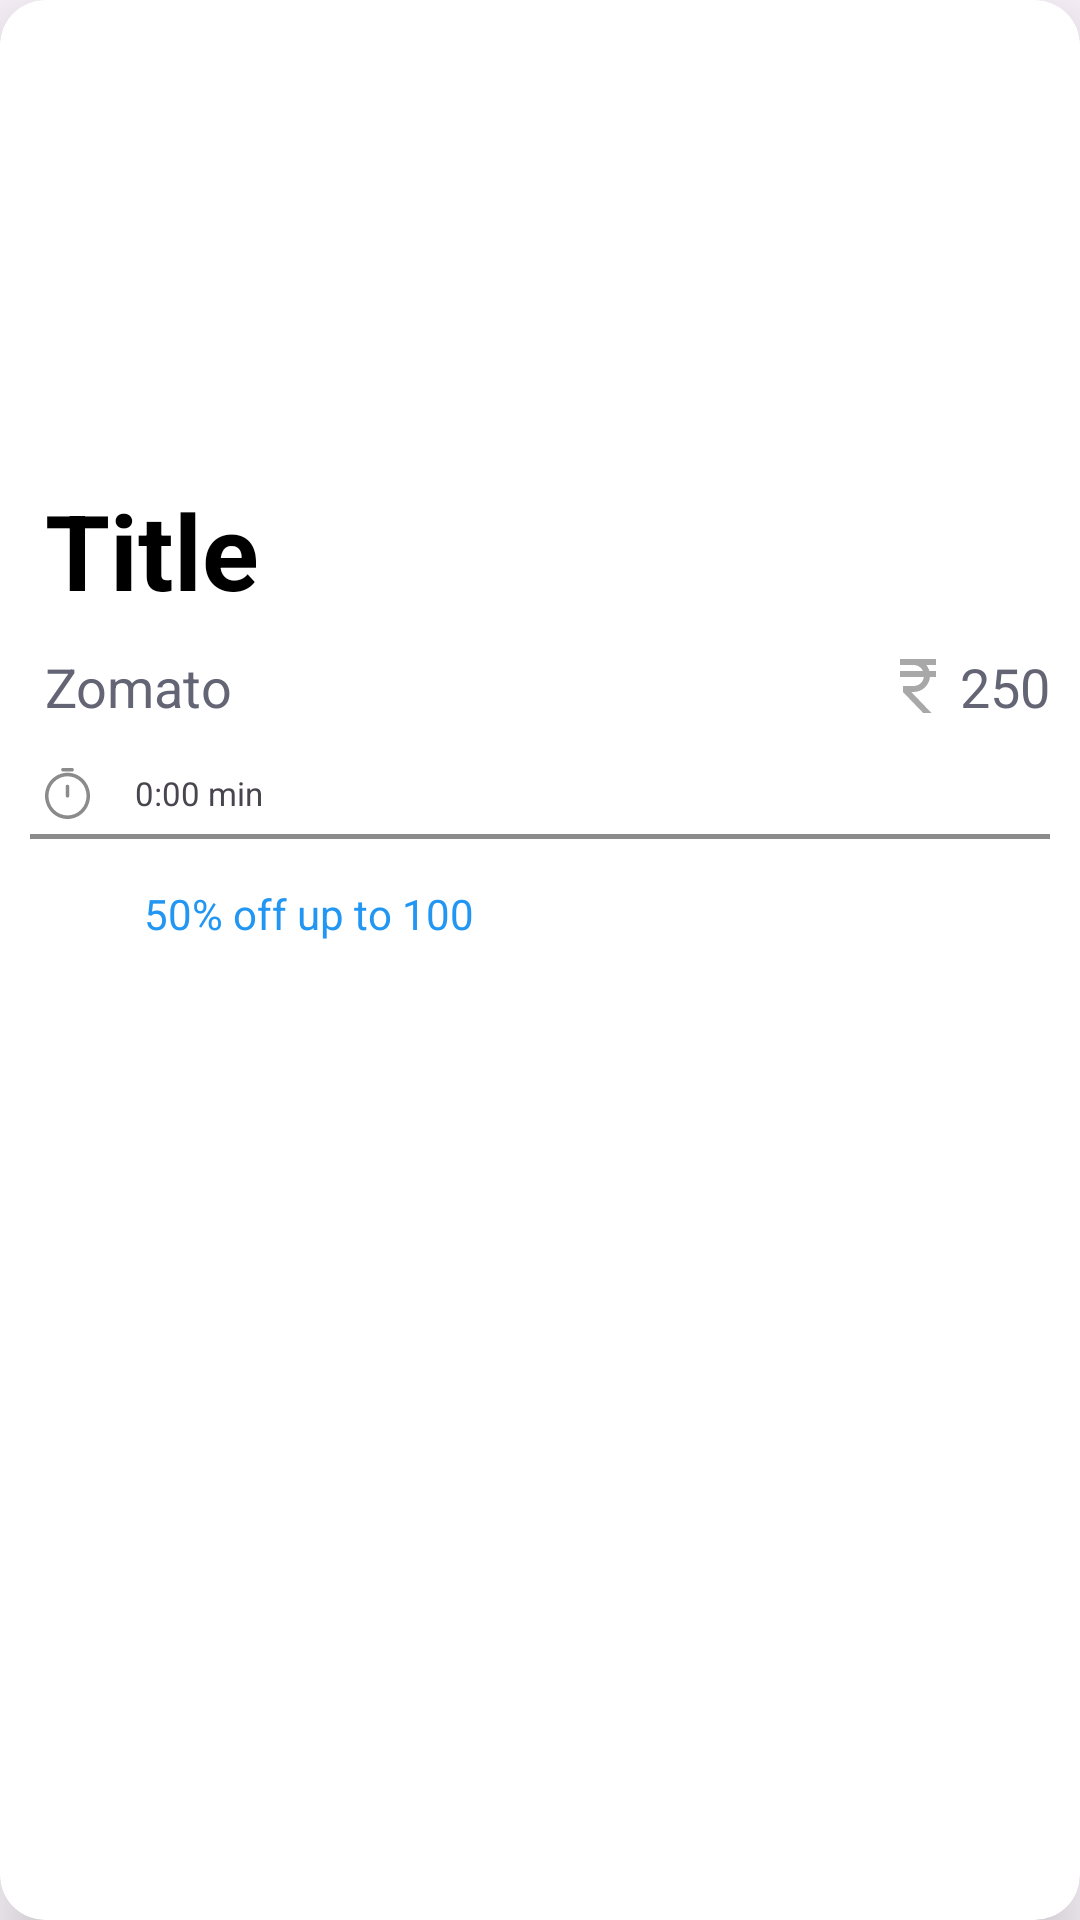

Screen size 1080 x 1920. Icon name, then its box in pixels as [x1,y1,x2,y2]:
currency rupee: [900,659,936,713]
timer: [45,768,90,819]
